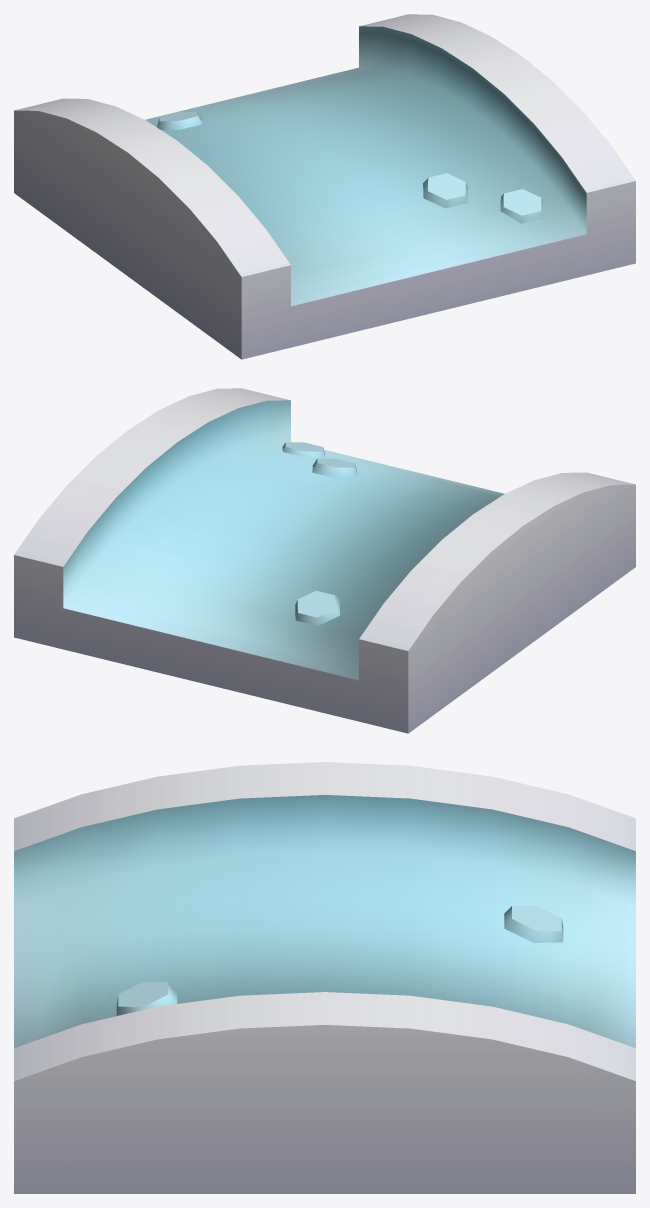
File: kenney-tower-defense-snow-tile-bump.glb
3 renders of one model, top to bottom at view 1: azimuth 30°, elevation 25°; view 2: azimuth 150°, elevation 25°; view 3: azimuth 270°, elevation 25°, orthographic. The views are drawn at different scales.
Parts seen in each view (by area): view 1: snow-tile-bump; view 2: snow-tile-bump; view 3: snow-tile-bump.
Part boxes in pixels (x1,y1,x2,y2): snow-tile-bump: [14, 14, 635, 359]; snow-tile-bump: [14, 388, 635, 733]; snow-tile-bump: [14, 762, 635, 1193].
Size of the model in its own units: 1 by 0.3 by 1.
1 material, 1 textured.
